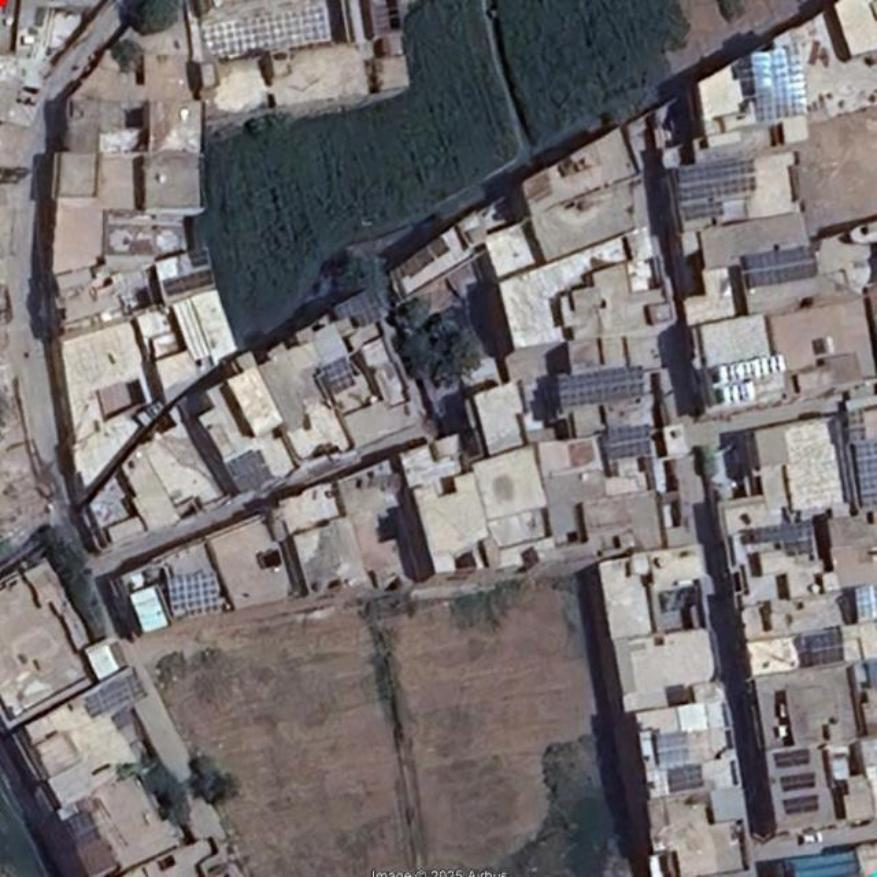Solarpanel: (674, 159, 762, 221), (749, 46, 811, 119), (555, 365, 644, 407), (744, 247, 817, 286), (335, 286, 381, 335), (169, 571, 219, 616), (604, 424, 651, 457), (750, 522, 811, 547), (855, 437, 876, 507), (164, 268, 211, 296), (320, 357, 354, 393), (809, 630, 841, 664), (853, 580, 876, 621), (782, 773, 816, 791), (782, 796, 818, 812), (772, 750, 809, 765)
